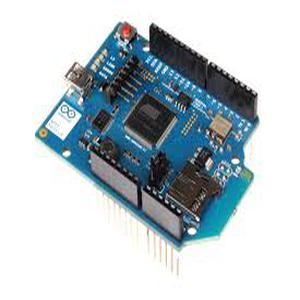duino: (30, 1, 264, 248)
